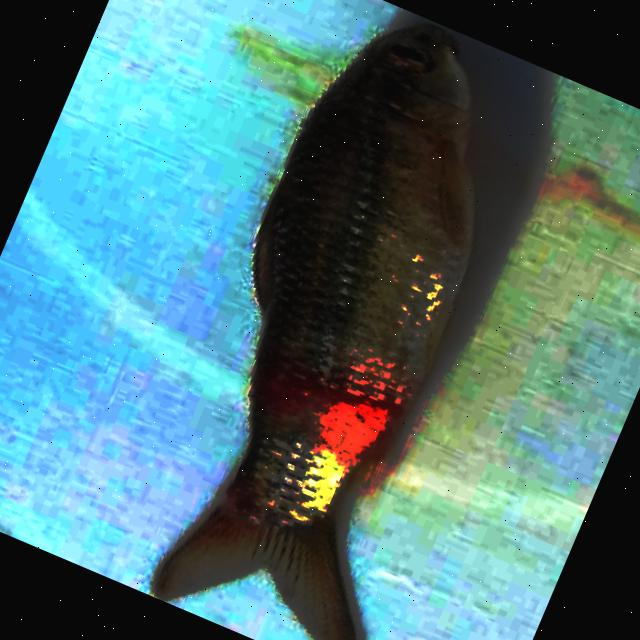Edwardsiella Ictaluri -Bacterial Red Disease-: (155, 23, 471, 640), (155, 23, 471, 640)
